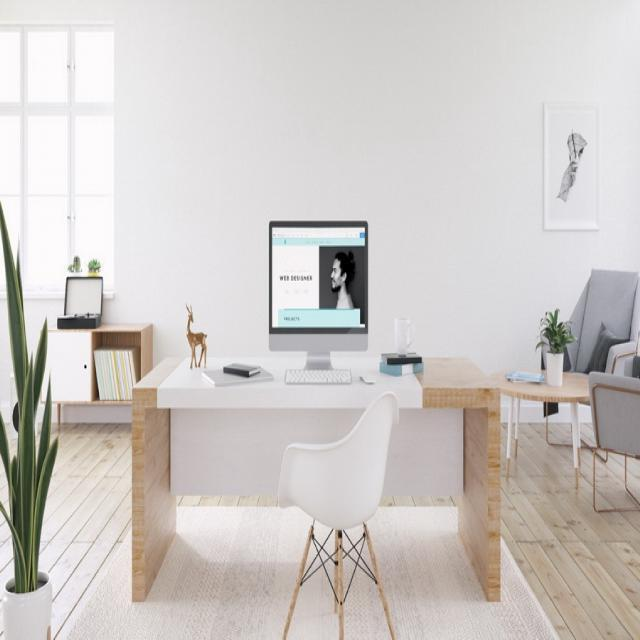table: (120, 301, 525, 543)
